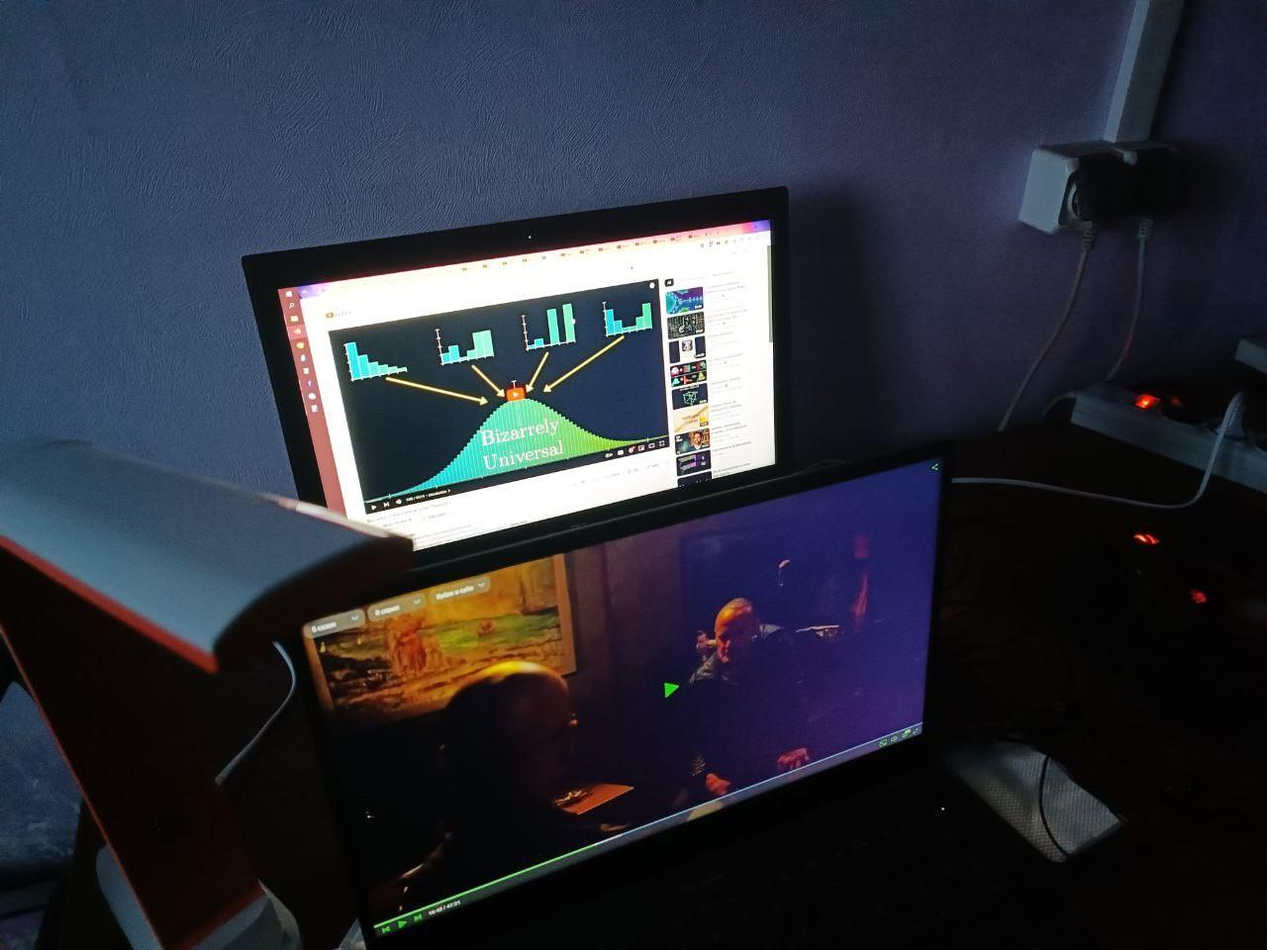monitor: (288, 421, 959, 950), (236, 178, 810, 652)
